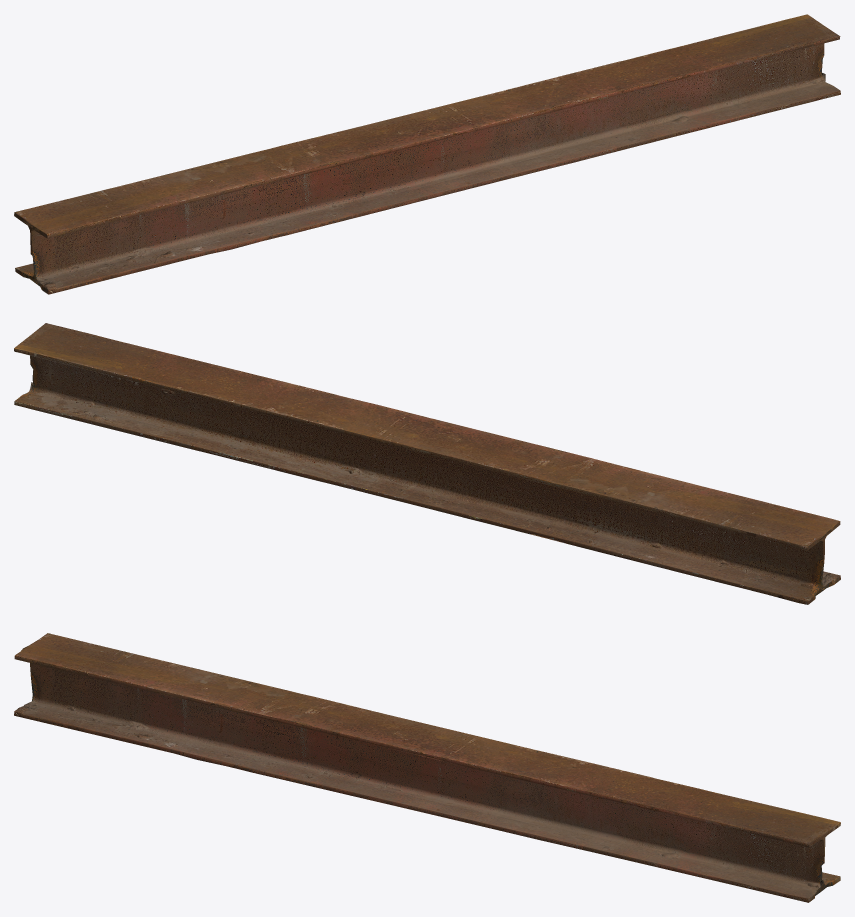
The model's file is SM_Ind_Con_Supplies_Beam_Metal_Rusty_02.gltf.
3 renders of one model, top to bottom at view 1: azimuth 30°, elevation 25°; view 2: azimuth 150°, elevation 25°; view 3: azimuth 330°, elevation 25°, orthographic.
Parts seen in each view (by area): view 1: SM_Ind_Con_Supplies_Beam_Metal_Rusty_02; view 2: SM_Ind_Con_Supplies_Beam_Metal_Rusty_02; view 3: SM_Ind_Con_Supplies_Beam_Metal_Rusty_02.
Part boxes in pixels (x1,y1,x2,y2): SM_Ind_Con_Supplies_Beam_Metal_Rusty_02: [14, 14, 840, 294]; SM_Ind_Con_Supplies_Beam_Metal_Rusty_02: [14, 323, 840, 604]; SM_Ind_Con_Supplies_Beam_Metal_Rusty_02: [14, 633, 840, 902].
Size of the model in its own units: 3.07 by 0.2424 by 0.2304.
1 material, 1 textured.
